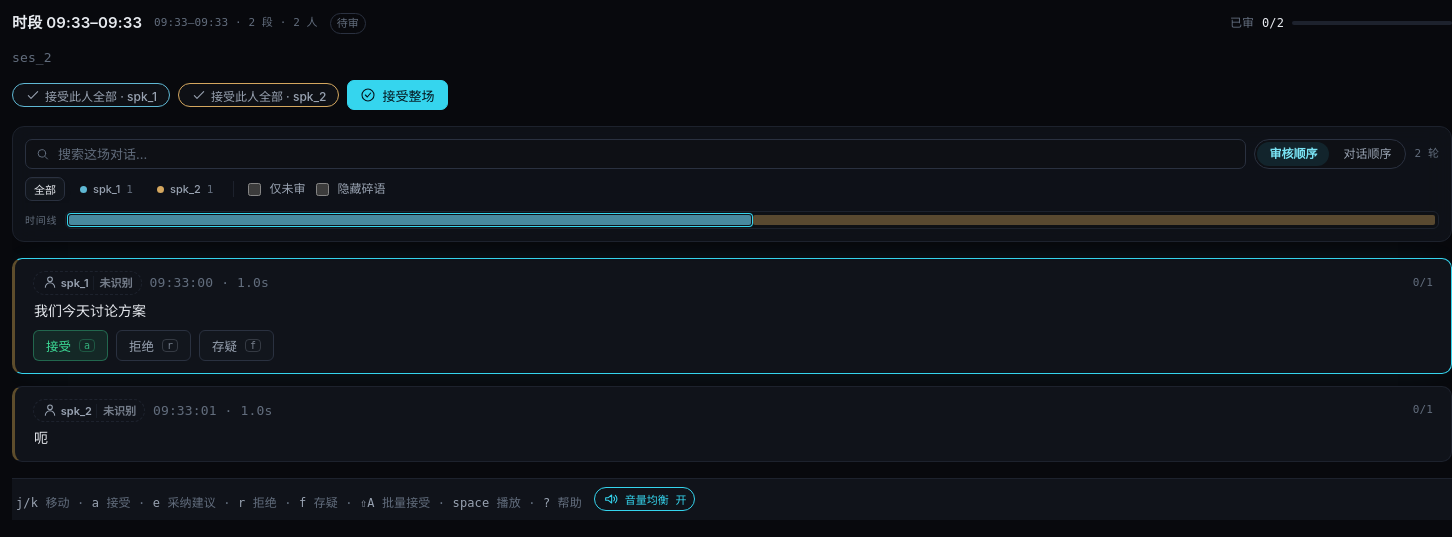
Test case: TranscriptReviewPanel › hides ≤2-char filler turns when 隐藏碎语 is on, keeping substantive ones
Expected: the button "我们今天讨论方案" is shown, [33, 302, 147, 318]
Expected: the button "呃" is shown, [33, 429, 49, 446]
Click the checkbox labelled "隐藏碎语" at (322, 189), box [316, 182, 329, 196]
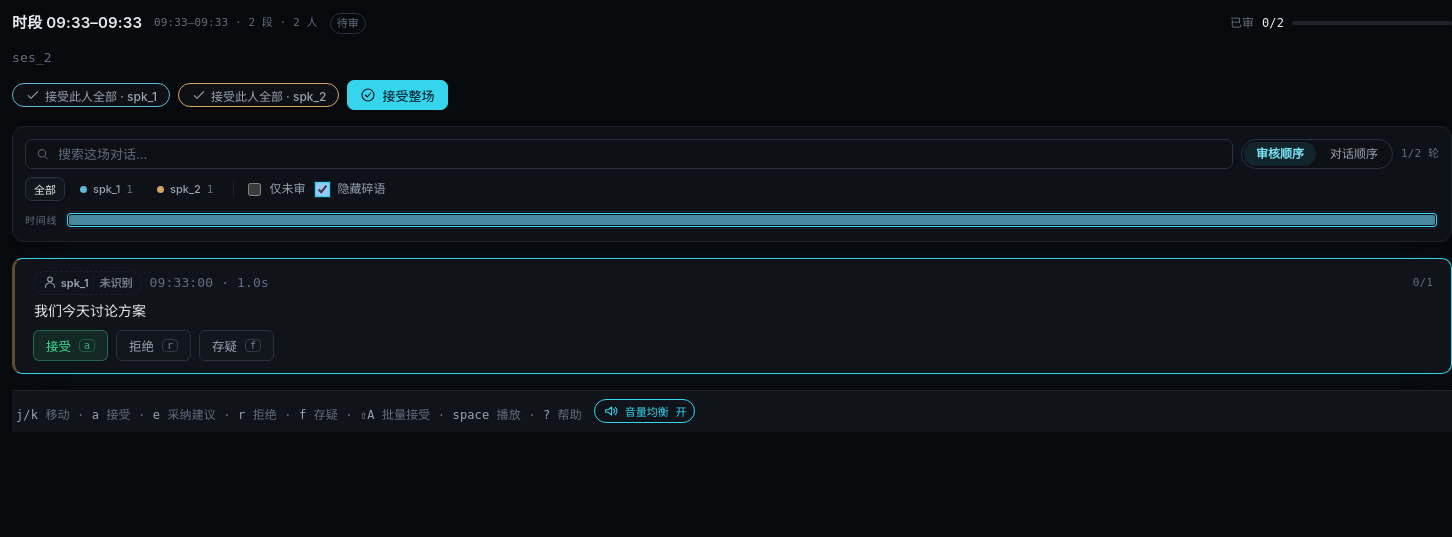
Expected: the button "我们今天讨论方案" is shown, [33, 302, 147, 318]
Result: the button "呃" is gone
